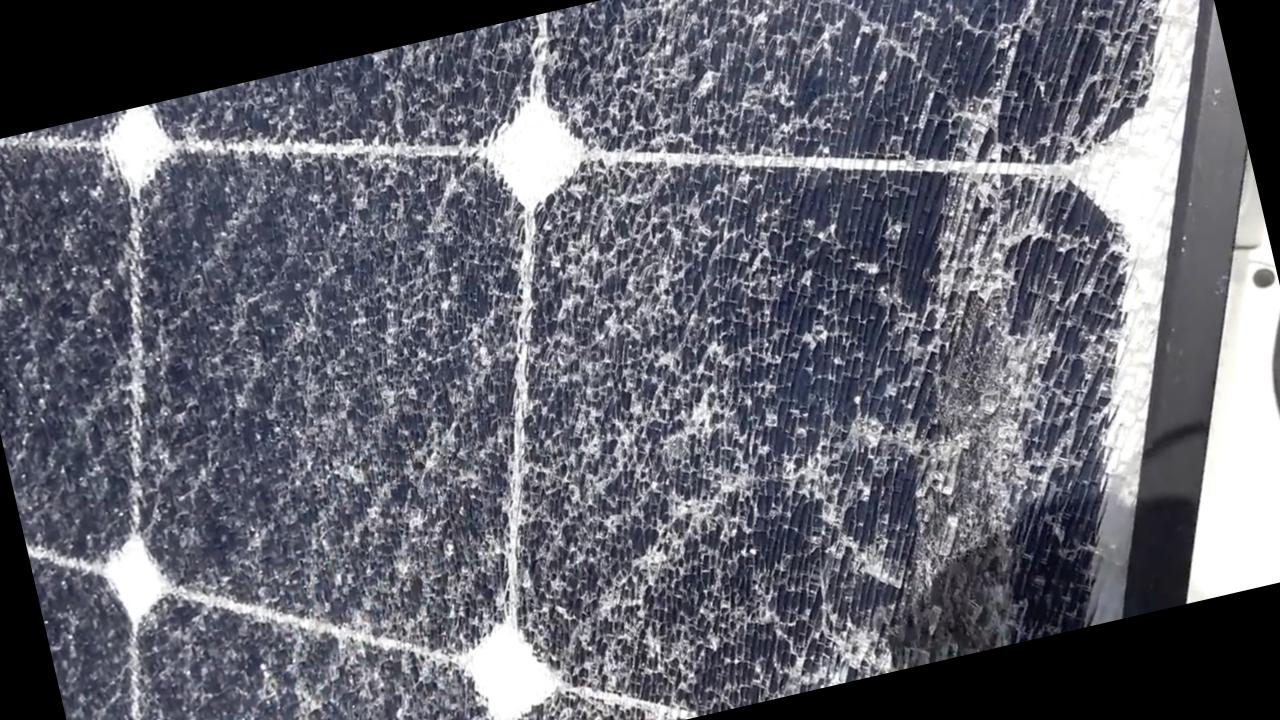Crack: (156, 0, 1207, 719)
